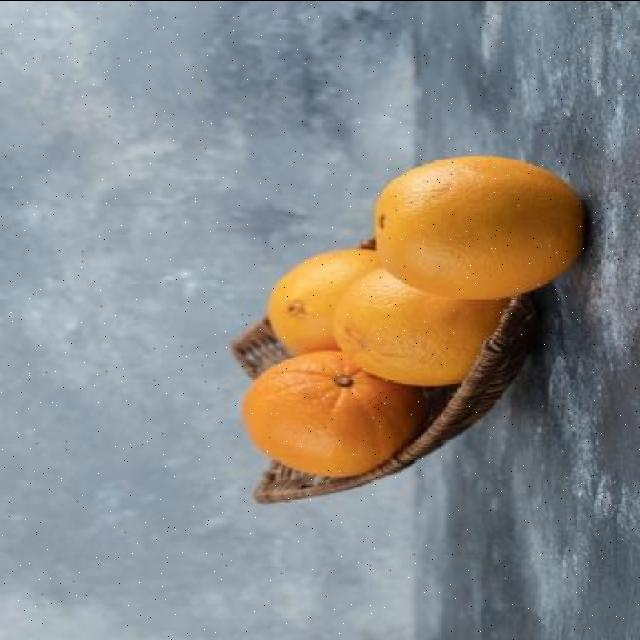Orange: (372, 154, 586, 302), (240, 349, 426, 478), (329, 266, 509, 388), (266, 248, 378, 356)
